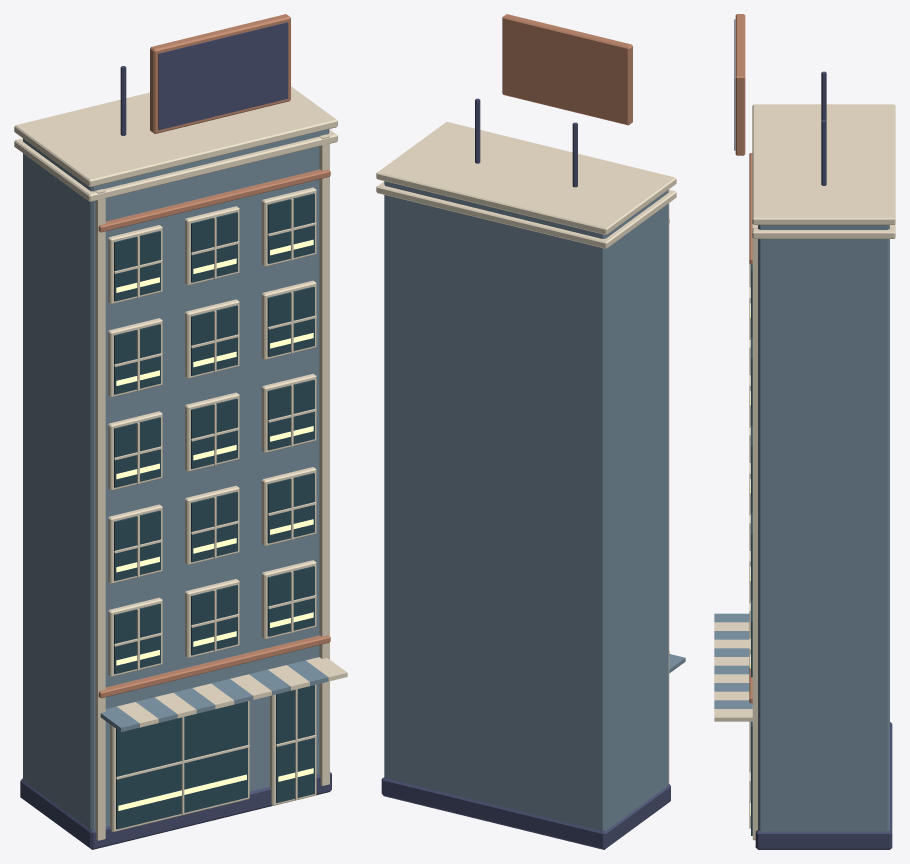
The model's file is sf3_highrise_shop_7m.glb.
3 views of the same model, side by side, from view 1: azimuth 30°, elevation 25°; view 2: azimuth 150°, elevation 25°; view 3: azimuth 270°, elevation 25° (orthographic). The views are drawn at different scales.
Visible parts, largest first — view 1: sf3_highrise_shop_7m__sf3-dusty-blue, sf3_highrise_shop_7m__sf3-warm-ivory, sf3_highrise_shop_7m__sf3-deep-glass, sf3_highrise_shop_7m__sf3-midnight-indigo, sf3_highrise_shop_7m__sf3-burnished-copper, sf3_highrise_shop_7m__sf3-warm-window; view 2: sf3_highrise_shop_7m__sf3-dusty-blue, sf3_highrise_shop_7m__sf3-warm-ivory, sf3_highrise_shop_7m__sf3-burnished-copper, sf3_highrise_shop_7m__sf3-midnight-indigo; view 3: sf3_highrise_shop_7m__sf3-dusty-blue, sf3_highrise_shop_7m__sf3-warm-ivory, sf3_highrise_shop_7m__sf3-midnight-indigo, sf3_highrise_shop_7m__sf3-burnished-copper, sf3_highrise_shop_7m__sf3-deep-glass.
Boxes of the visible parts, x1,y1,x2,y2 form: sf3_highrise_shop_7m__sf3-dusty-blue: [23, 129, 329, 829]; sf3_highrise_shop_7m__sf3-warm-ivory: [14, 86, 347, 840]; sf3_highrise_shop_7m__sf3-deep-glass: [114, 193, 314, 829]; sf3_highrise_shop_7m__sf3-midnight-indigo: [20, 22, 331, 849]; sf3_highrise_shop_7m__sf3-burnished-copper: [98, 14, 330, 698]; sf3_highrise_shop_7m__sf3-warm-window: [116, 239, 313, 810]; sf3_highrise_shop_7m__sf3-dusty-blue: [384, 181, 685, 830]; sf3_highrise_shop_7m__sf3-warm-ivory: [376, 122, 676, 783]; sf3_highrise_shop_7m__sf3-burnished-copper: [502, 14, 669, 655]; sf3_highrise_shop_7m__sf3-midnight-indigo: [381, 98, 670, 849]; sf3_highrise_shop_7m__sf3-dusty-blue: [714, 225, 889, 831]; sf3_highrise_shop_7m__sf3-warm-ivory: [714, 104, 895, 840]; sf3_highrise_shop_7m__sf3-midnight-indigo: [734, 19, 892, 849]; sf3_highrise_shop_7m__sf3-burnished-copper: [735, 14, 752, 703]; sf3_highrise_shop_7m__sf3-deep-glass: [751, 264, 752, 835].
Size of the model in its own units: 6.15 by 18.8 by 4.12.
